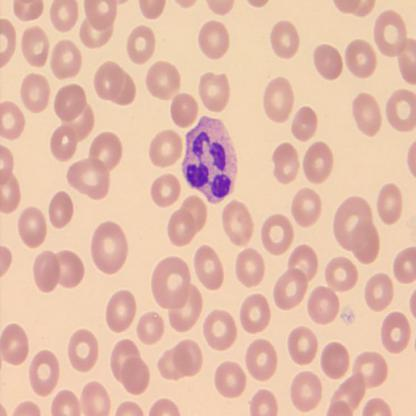Segmented neutrophil: (179, 113, 240, 208)
